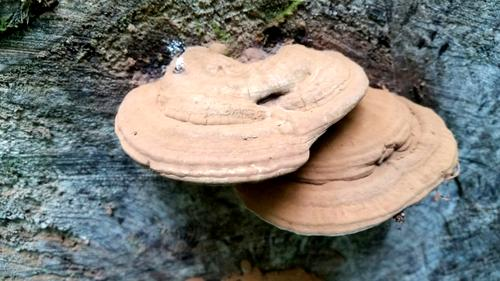Ganoderma - Fruit Body: (115, 41, 460, 238)
